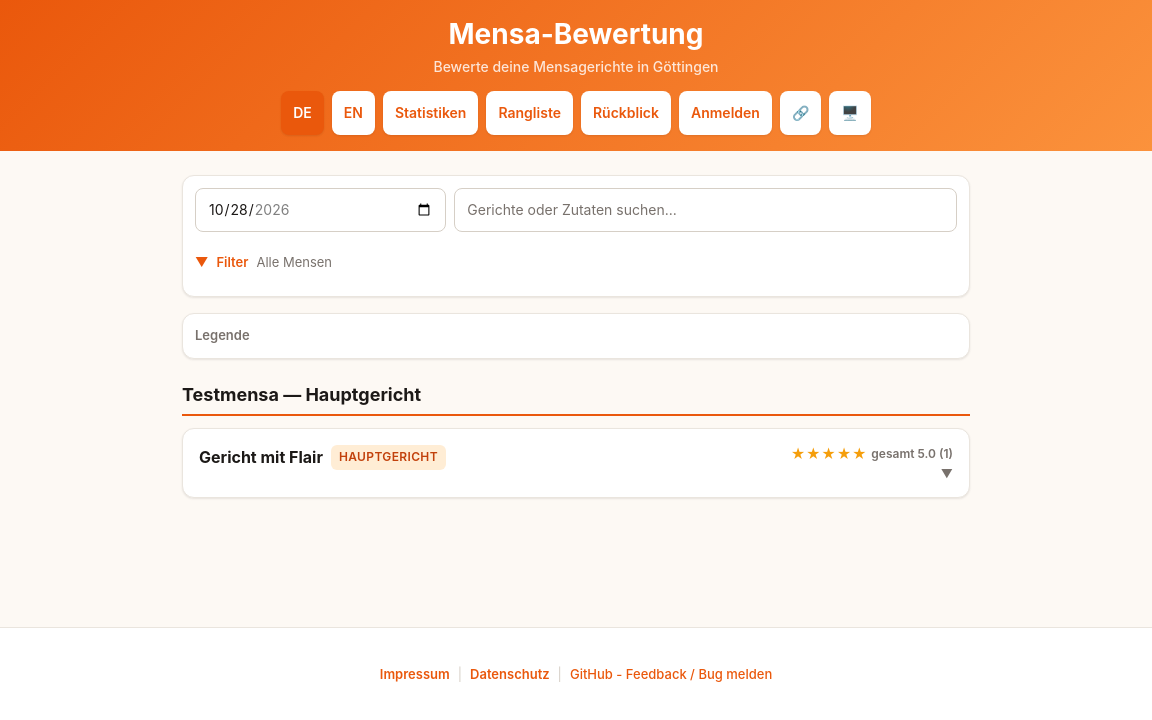
Test: a comment with a flair shows its badge in the review list
Click the text "Gericht mit Flair".
click(261, 458)  # box [199,447,323,468]
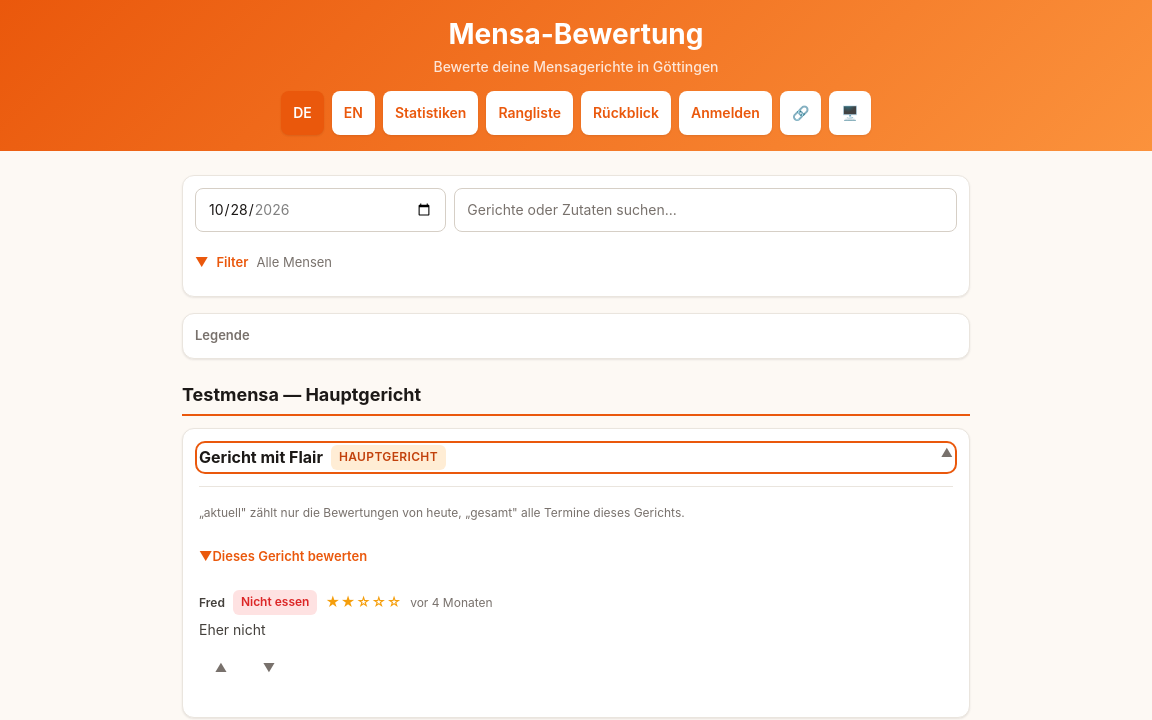
expect the text "Nicht essen" is shown: met, box [233,590,318,615]
